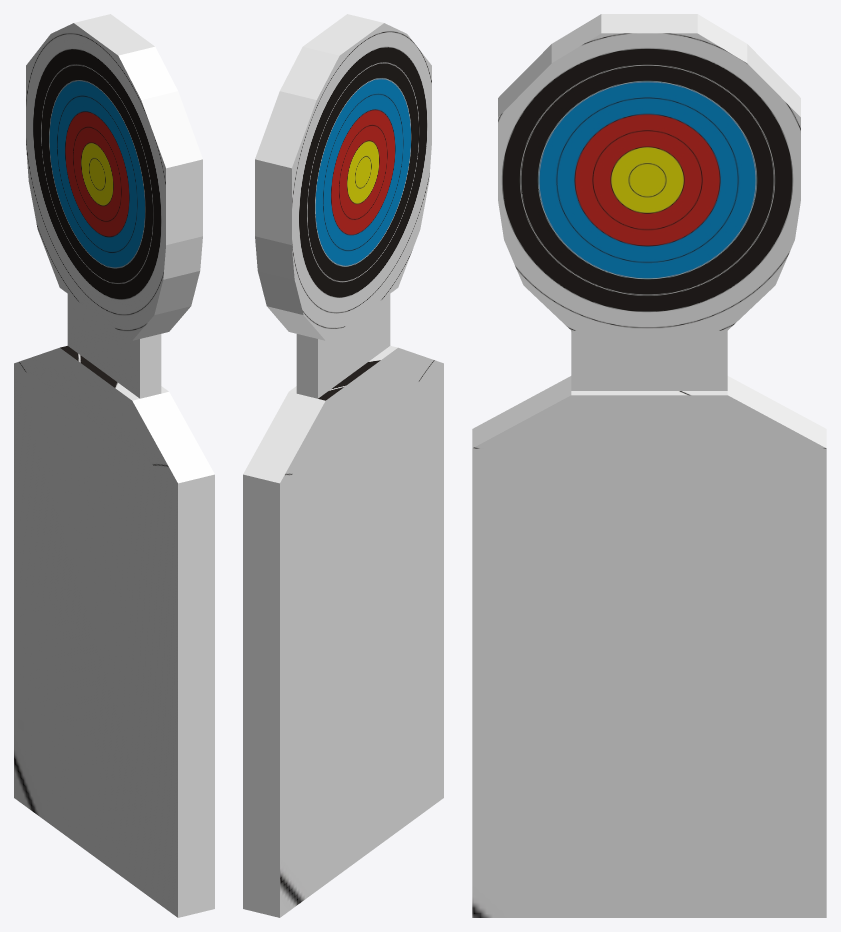
File: Target.fbx
3 renders of one model, left to right at view 1: azimuth 30°, elevation 25°; view 2: azimuth 150°, elevation 25°; view 3: azimuth 270°, elevation 25°, orthographic. The views are drawn at different scales.
Parts seen in each view (by area): view 1: Cube; view 2: Cube; view 3: Cube.
Part boxes in pixels (x1=…): Cube: x1=14, y1=14, x2=214, y2=917; Cube: x1=243, y1=14, x2=443, y2=917; Cube: x1=472, y1=14, x2=826, y2=917.
Bounding box in the file's own units: 25.99 × 551 × 200.
